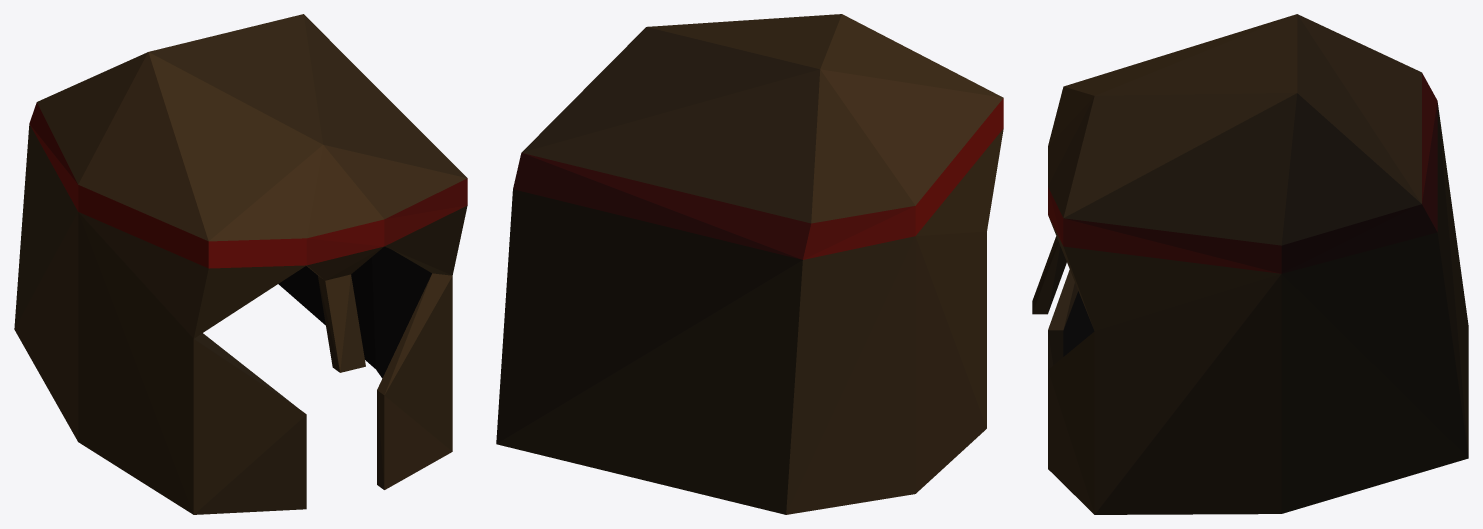
File: bronze-med-helm.obj
3 renders of one model, left to right at view 1: azimuth 30°, elevation 25°; view 2: azimuth 150°, elevation 25°; view 3: azimuth 270°, elevation 25°, orthographic. The views are drawn at different scales.
Visible parts, largest first — view 1: Item Bronze med helm 2026-09-24_18-17-12; view 2: Item Bronze med helm 2026-09-24_18-17-12; view 3: Item Bronze med helm 2026-09-24_18-17-12.
Part boxes in pixels (x1,y1,x2,y2): Item Bronze med helm 2026-09-24_18-17-12: (14, 14, 467, 514); Item Bronze med helm 2026-09-24_18-17-12: (496, 14, 1003, 514); Item Bronze med helm 2026-09-24_18-17-12: (1032, 14, 1468, 514).
Bounding box in the file's own units: 24 × 28 × 28.
